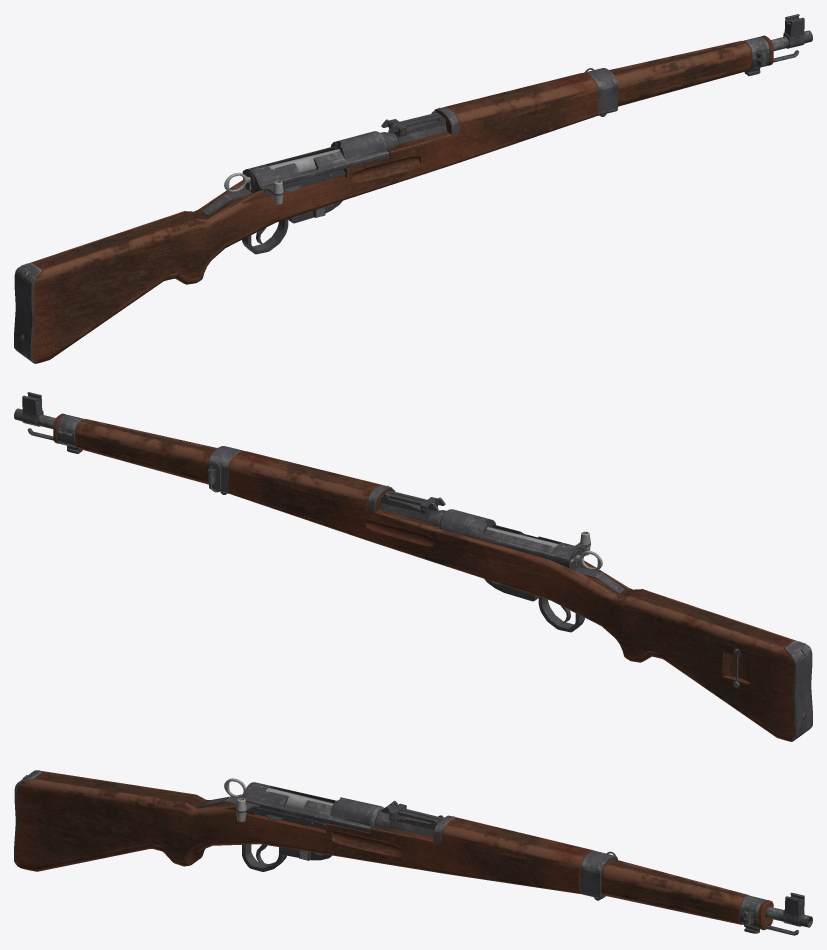
File: New Gun .fbx
3 views of the same model, one above another, from view 1: azimuth 30°, elevation 25°; view 2: azimuth 150°, elevation 25°; view 3: azimuth 330°, elevation 25° (orthographic).
Parts seen in each view (by area): view 1: Gun; view 2: Gun; view 3: Gun.
Part boxes in pixels (x1,y1,x2,y2): Gun: [14, 14, 812, 363]; Gun: [14, 392, 812, 741]; Gun: [14, 770, 812, 935].
Bounding box in the file's own units: 111 × 20.92 × 8.11.
